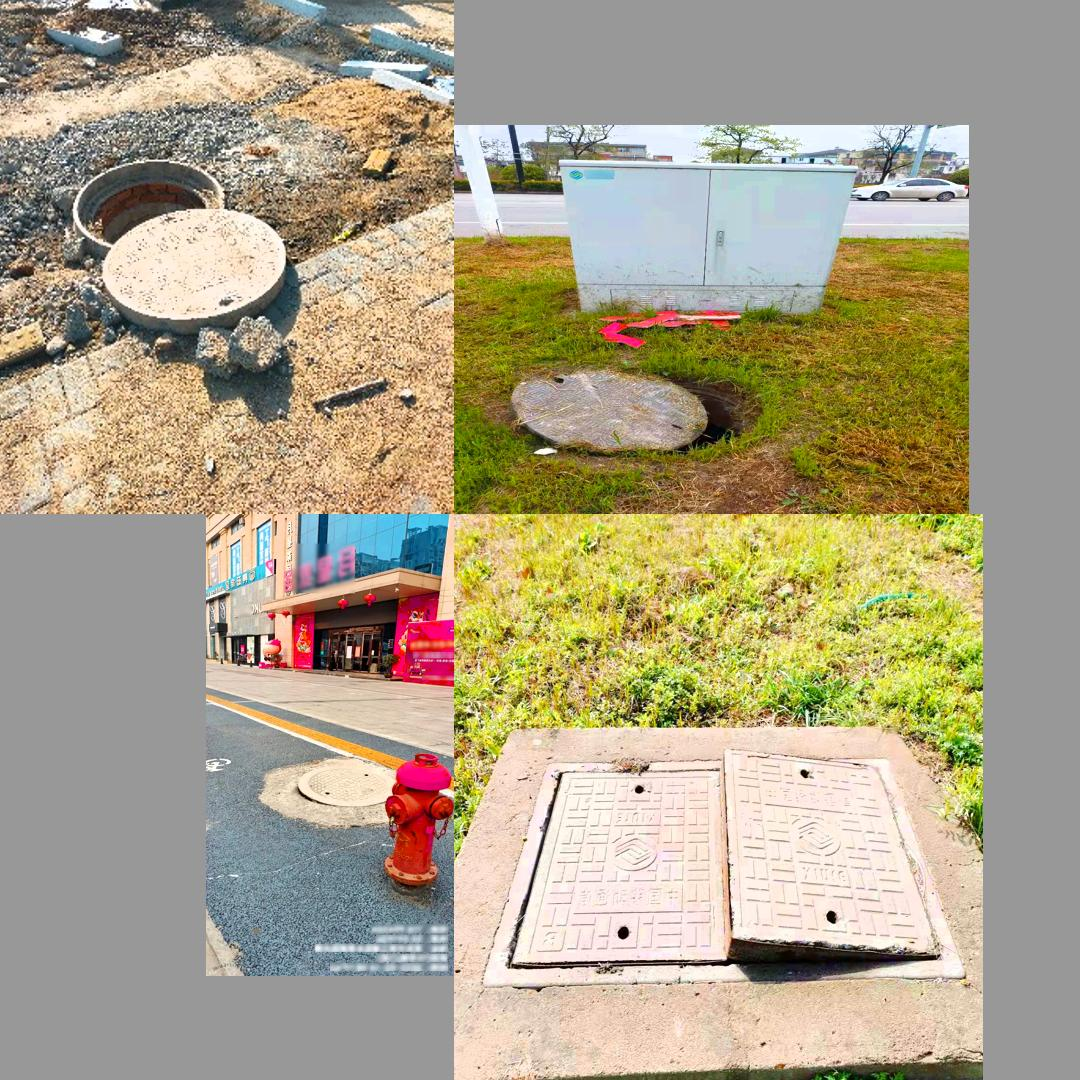uncovered: (477, 758, 966, 991), (71, 155, 287, 329), (507, 368, 758, 452), (287, 747, 398, 816)
